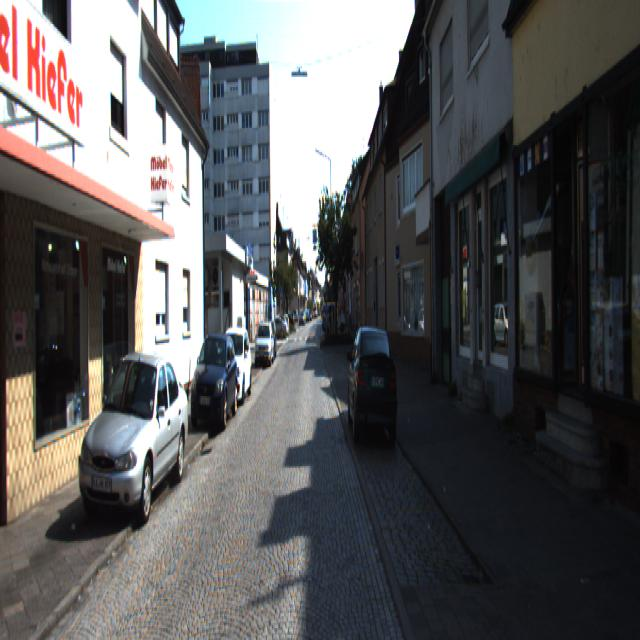Car: (77, 355, 191, 538), (347, 321, 400, 450), (188, 329, 239, 436), (214, 324, 253, 406), (253, 321, 275, 368)
